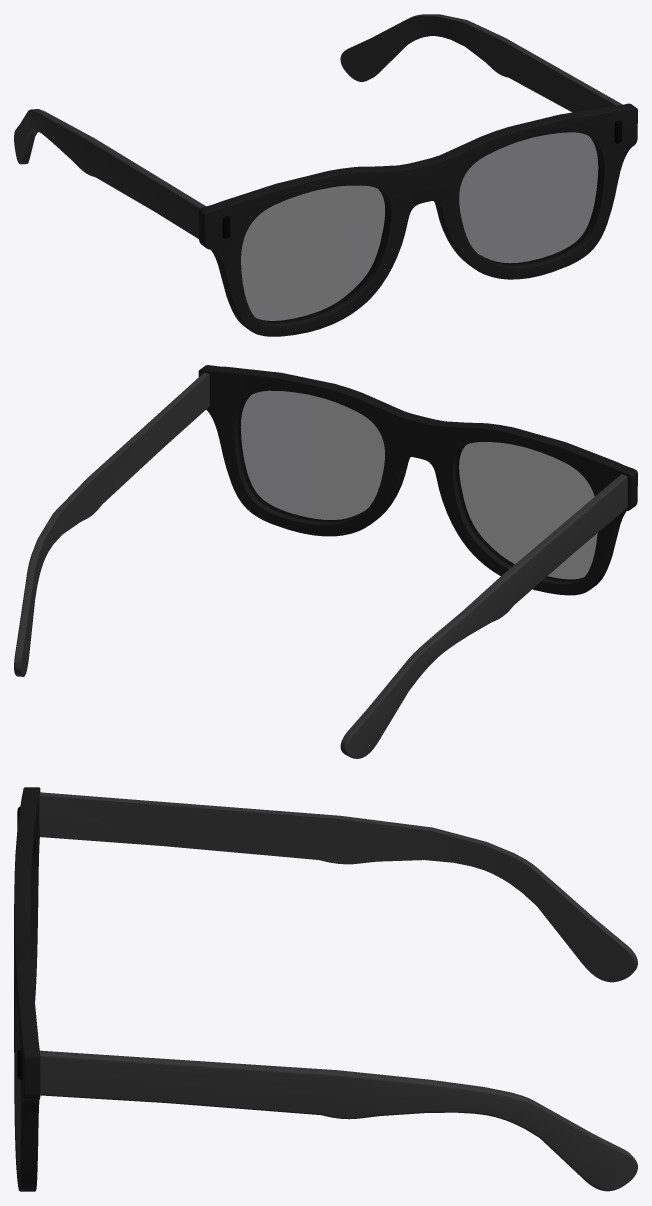
The model's file is sunglass.glb.
The picture shows the model from 3 angles, top to bottom: view 1: azimuth 30°, elevation 25°; view 2: azimuth 150°, elevation 25°; view 3: azimuth 270°, elevation 25°; orthographic projection. The views are drawn at different scales.
Parts seen in each view (by area): view 1: Object_4, Object_3, Object_2, Object_5; view 2: Object_4, Object_3, Object_5, Object_2; view 3: Object_5, Object_2, Object_3.
Part boxes in pixels (bbox=[...]): Object_4: bbox=[241, 132, 601, 323]; Object_3: bbox=[198, 103, 637, 336]; Object_2: bbox=[340, 14, 622, 112]; Object_5: bbox=[14, 109, 205, 238]; Object_4: bbox=[238, 390, 597, 581]; Object_3: bbox=[198, 365, 637, 595]; Object_5: bbox=[340, 474, 627, 758]; Object_2: bbox=[14, 372, 209, 676]; Object_5: bbox=[39, 792, 637, 982]; Object_2: bbox=[40, 1050, 637, 1191]; Object_3: bbox=[14, 787, 40, 1191].
Bounding box in the file's own units: 45.76 × 15.28 × 44.9.
Materials: 5 (5 with a texture image).
